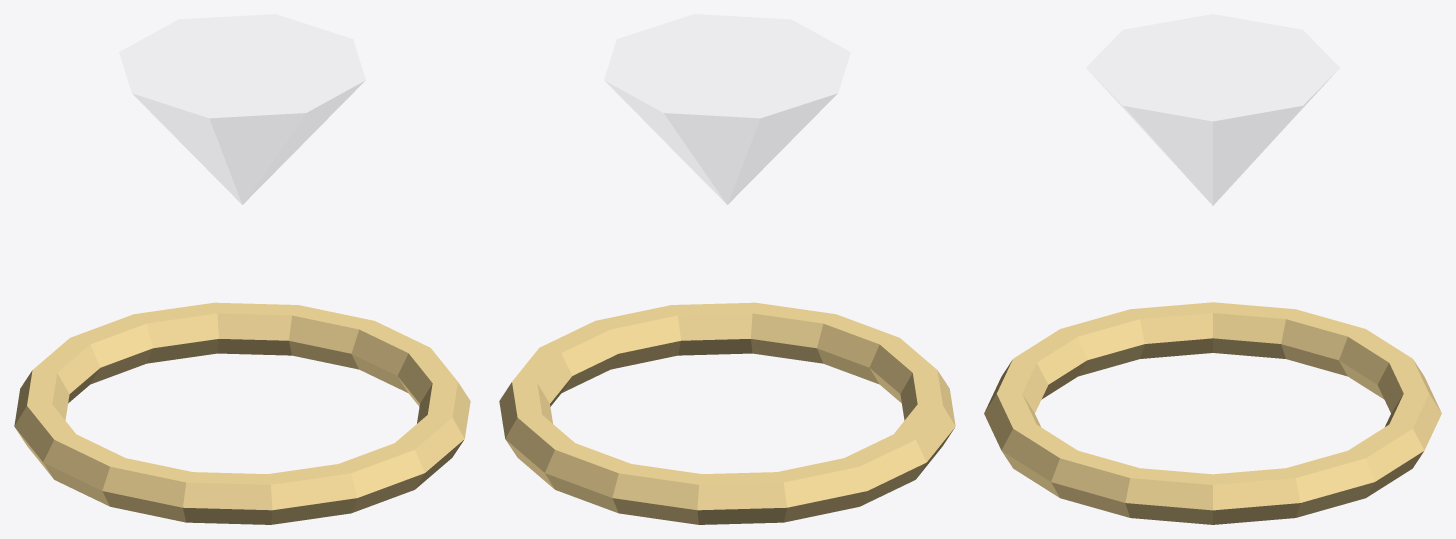
Rendered from diamond.out_ring_rt.glb.
3 renders of one model, left to right at view 1: azimuth 30°, elevation 25°; view 2: azimuth 150°, elevation 25°; view 3: azimuth 270°, elevation 25°, orthographic.
Visible parts, largest first — view 1: Band, Stone; view 2: Band, Stone; view 3: Band, Stone.
Part boxes in pixels (left/top/right/bottom): Band: left=14, top=302, right=470, bottom=524; Stone: left=119, top=14, right=365, bottom=204; Band: left=499, top=302, right=955, bottom=524; Stone: left=604, top=14, right=850, bottom=204; Band: left=984, top=302, right=1441, bottom=524; Stone: left=1086, top=14, right=1339, bottom=205.
Size of the model in its own units: 1.8 by 1.59 by 1.8.
